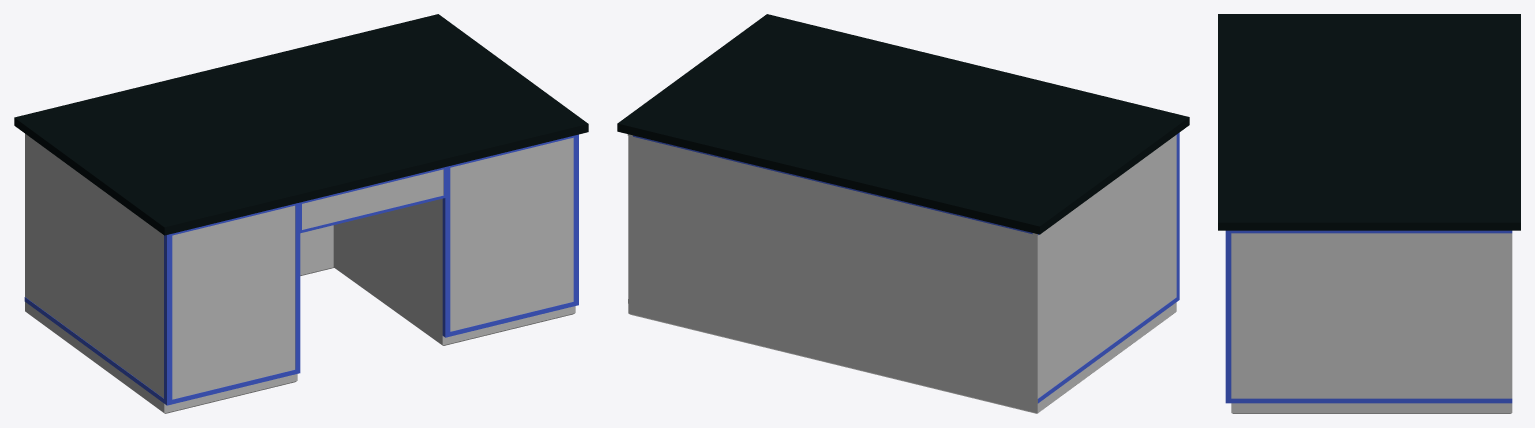
File: MejaLab.glb
The picture shows the model from 3 angles, left to right: view 1: azimuth 30°, elevation 25°; view 2: azimuth 150°, elevation 25°; view 3: azimuth 270°, elevation 25°; orthographic projection.
Parts seen in each view (by area): view 1: Cube.001; view 2: Cube.001; view 3: Cube.001.
Boxes of the visible parts, left/top/right/bottom form: Cube.001: left=14, top=14, right=588, bottom=413; Cube.001: left=617, top=14, right=1189, bottom=413; Cube.001: left=1218, top=14, right=1520, bottom=413.
Size of the model in its own units: 2.06 by 0.9016 by 1.27.
